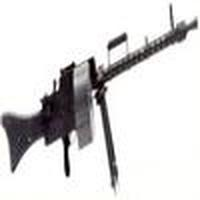gun: (1, 17, 200, 173)
